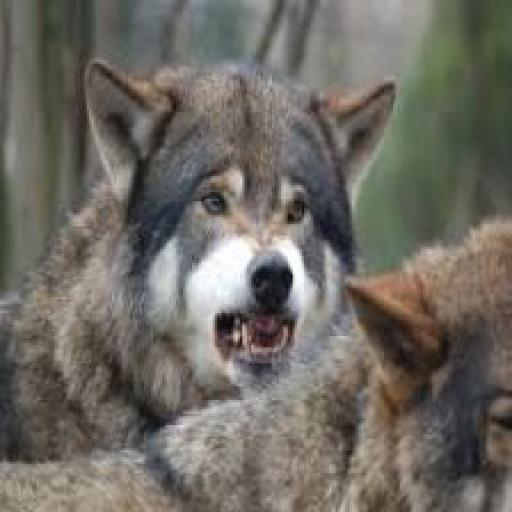wolf: (0, 25, 394, 422)
